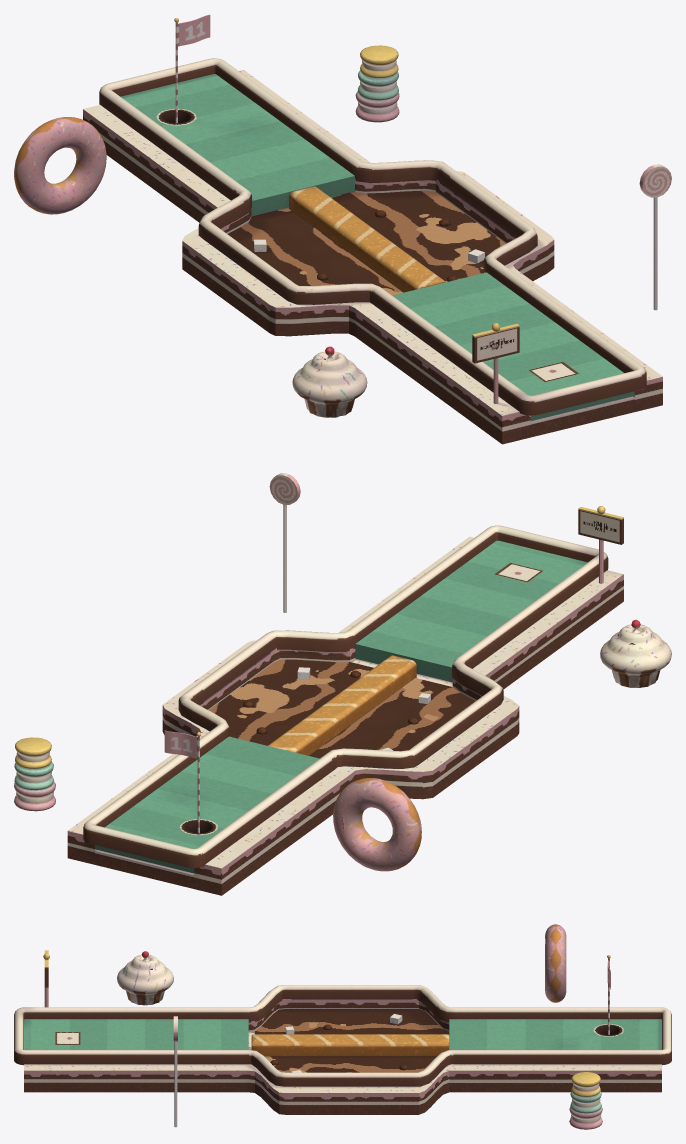
Rendered from hole11.glb.
3 views of the same model, one above another, from view 1: azimuth 30°, elevation 25°; view 2: azimuth 150°, elevation 25°; view 3: azimuth 270°, elevation 25° (orthographic). The views are drawn at different scales.
Visible parts, largest first — view 1: Base, Rails, Coffee, GreenB, Green, Decor4, Baguette, Decor1, Decor3, HoleSign, Decor2, Flag; view 2: Base, Rails, Green, Coffee, GreenB, Decor4, Baguette, Decor1, Decor3, HoleSign, Decor2, Flag; view 3: Base, Rails, Green, Coffee, GreenB, Baguette, Decor1, Decor3, Decor4, Decor2.
Boxes of the visible parts, x1,y1,x2,y2 form: Base: [83, 70, 662, 444]; Rails: [99, 58, 646, 415]; Coffee: [227, 190, 505, 295]; GreenB: [121, 74, 354, 216]; Green: [392, 272, 634, 420]; Decor4: [14, 117, 106, 214]; Baguette: [289, 186, 445, 292]; Decor1: [292, 346, 367, 417]; Decor3: [355, 45, 399, 122]; HoleSign: [472, 323, 519, 403]; Decor2: [639, 164, 671, 310]; Flag: [174, 14, 210, 123]; Base: [67, 536, 623, 895]; Rails: [83, 525, 608, 867]; Green: [355, 540, 587, 682]; Coffee: [209, 659, 475, 758]; GreenB: [95, 736, 319, 873]; Decor4: [333, 778, 421, 871]; Baguette: [268, 655, 416, 755]; Decor1: [600, 619, 671, 687]; Decor3: [14, 737, 55, 811]; HoleSign: [578, 506, 623, 583]; Decor2: [269, 473, 300, 612]; Flag: [164, 730, 200, 833]; Base: [24, 999, 661, 1114]; Rails: [14, 985, 671, 1086]; Green: [24, 1019, 248, 1049]; Coffee: [255, 1009, 449, 1072]; GreenB: [449, 1019, 661, 1049]; Baguette: [251, 1034, 449, 1056]; Decor1: [117, 951, 173, 1005]; Decor3: [569, 1072, 602, 1129]; Decor4: [545, 924, 566, 1002]; Decor2: [173, 1016, 177, 1127].
Size of what is drawn, in the model's own units: 4.69 by 1.6 by 8.66.
Materials: 1 (1 with a texture image).
